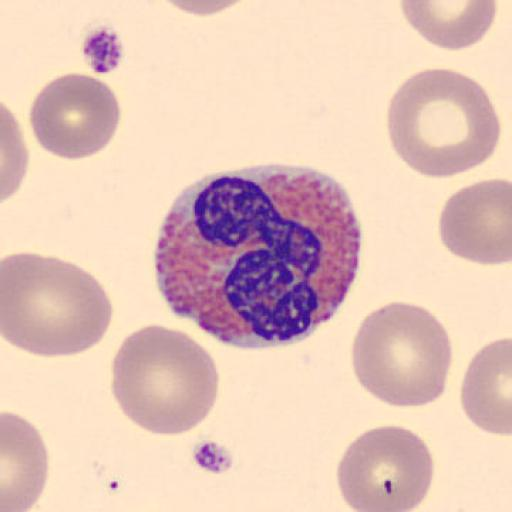Platelet: (78, 22, 128, 75)
RBC: (384, 67, 502, 180), (110, 322, 220, 437), (2, 252, 115, 359), (350, 298, 454, 410), (334, 423, 435, 512), (28, 70, 122, 161), (438, 176, 512, 268), (459, 334, 512, 438), (398, 0, 498, 52), (2, 410, 52, 512), (0, 102, 30, 204), (156, 0, 255, 18)
WBC: (150, 162, 366, 348)
